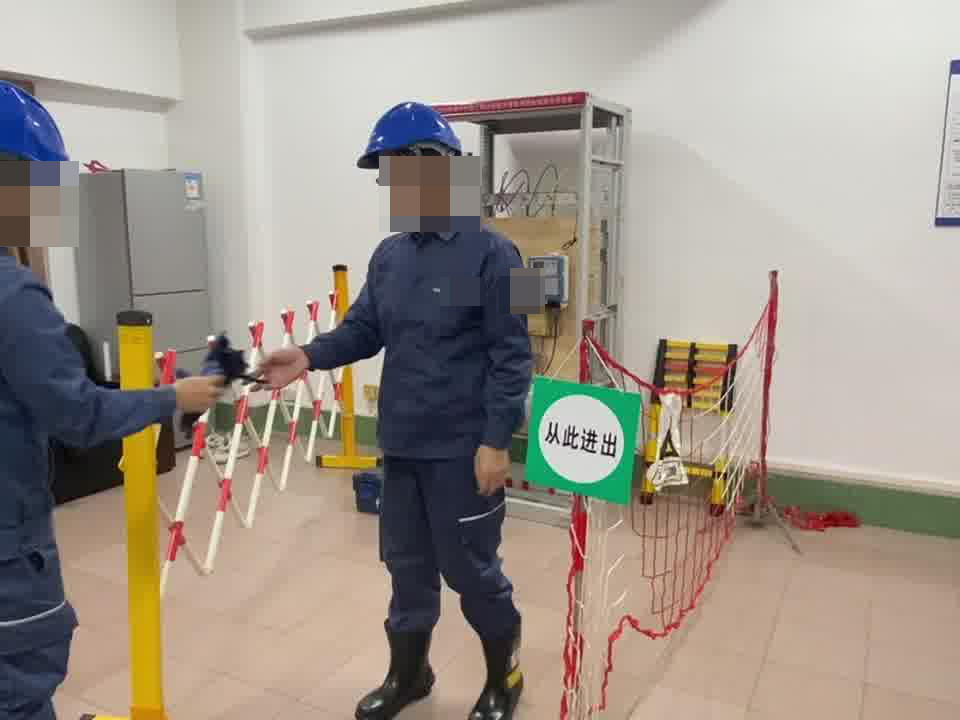downsuit: (373, 460, 522, 653), (1, 553, 81, 720)
halt: (357, 99, 475, 225), (1, 73, 73, 256)
hand: (170, 372, 223, 417), (247, 346, 306, 386), (479, 443, 512, 496)
inear: (414, 141, 453, 202)
intosign: (529, 379, 641, 494)
person: (255, 94, 540, 718), (1, 52, 192, 718)
shoe: (355, 620, 436, 712), (464, 633, 526, 715)
sleeve: (503, 276, 526, 308)
upsuit: (299, 209, 534, 455), (1, 238, 178, 563)
